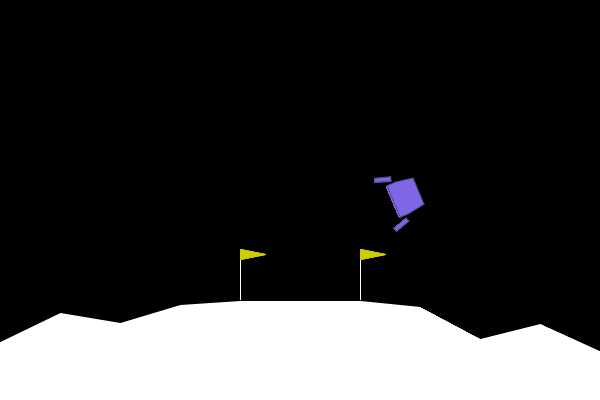lander: (372, 163, 432, 234)
